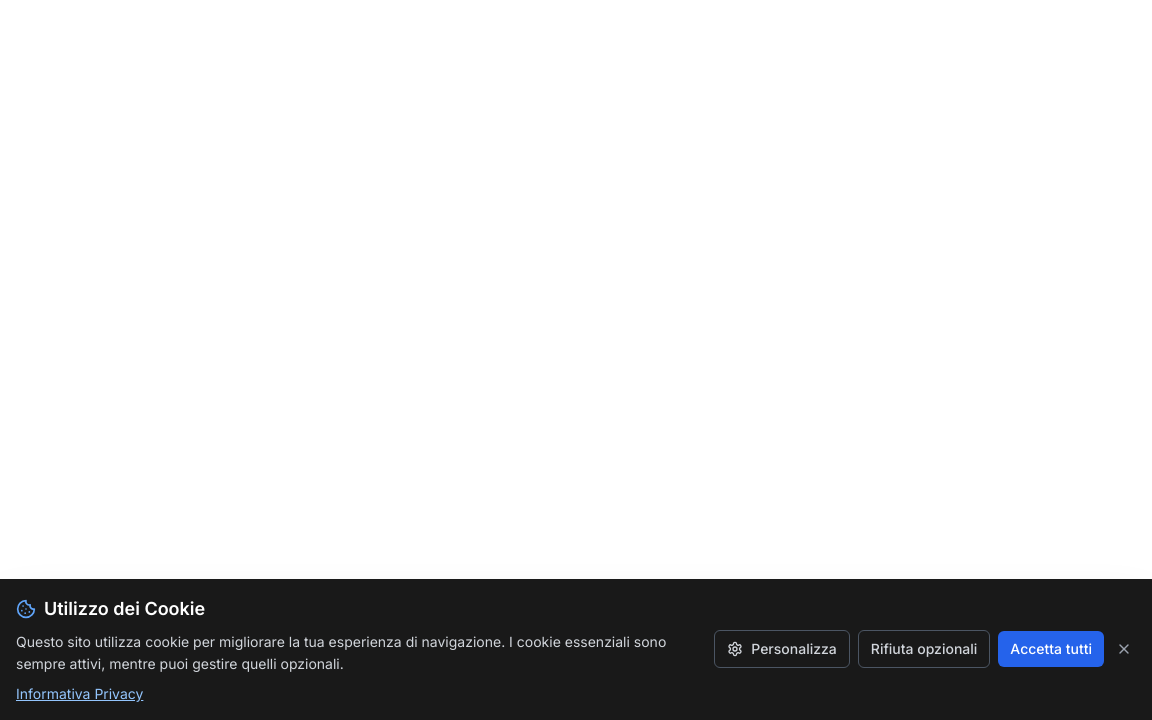
Test case: CookieBanner - GDPR Granular Controls › 🔧 Simple Banner Actions › should open detailed settings when "Customize" clicked
Click the button "Personalizza".
click(782, 649)  # box [714, 630, 850, 668]
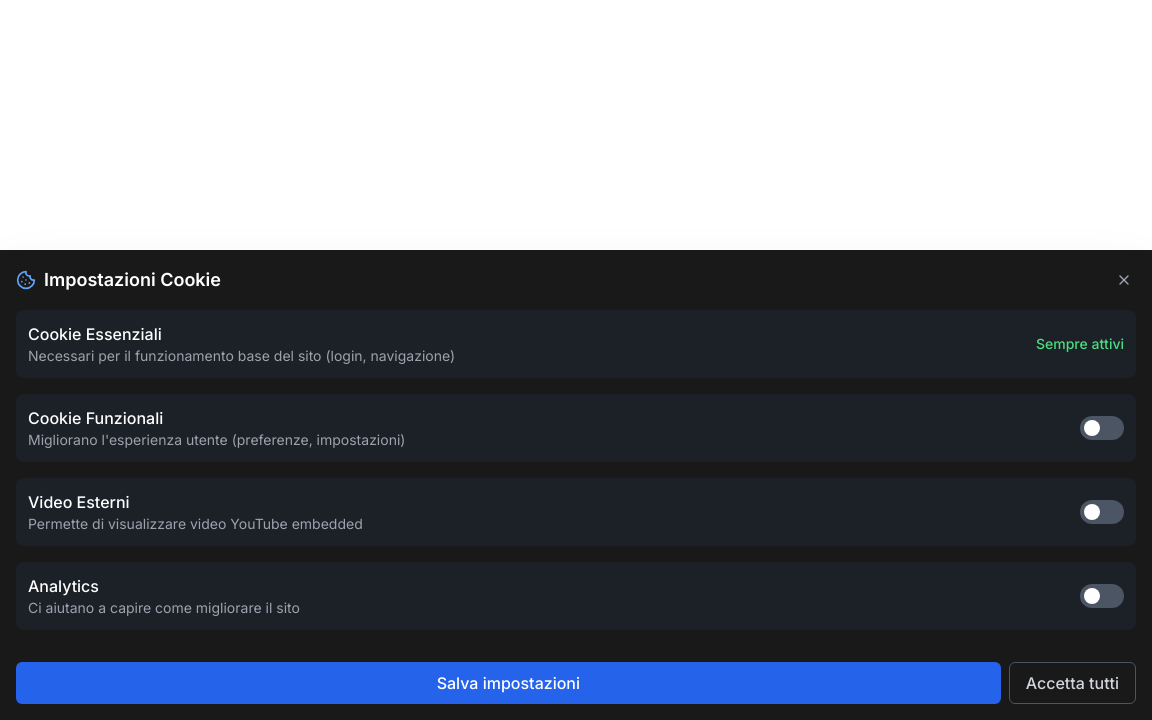
Now the heading "Impostazioni Cookie" is shown, box [44, 266, 221, 294]
Now the heading "Cookie Funzionali" is shown, box [28, 408, 163, 428]
Now the heading "Video Esterni" is shown, box [28, 492, 130, 512]
